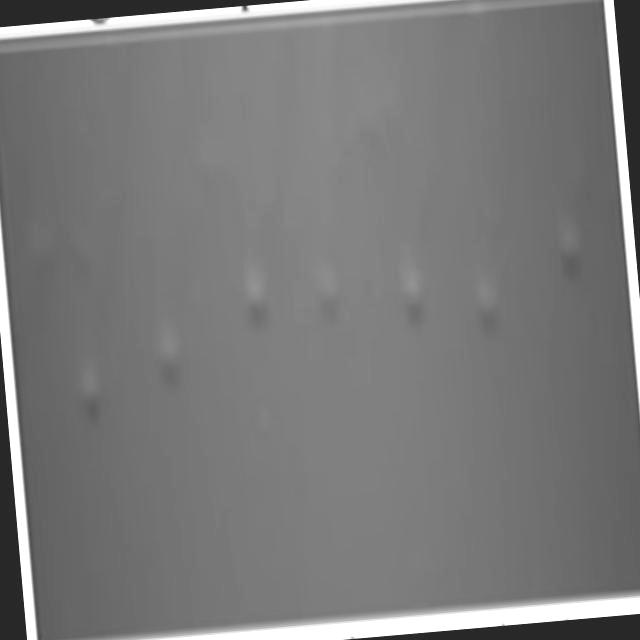paint drips: (25, 218, 202, 459), (206, 148, 367, 382), (376, 162, 518, 390), (525, 110, 610, 334)
